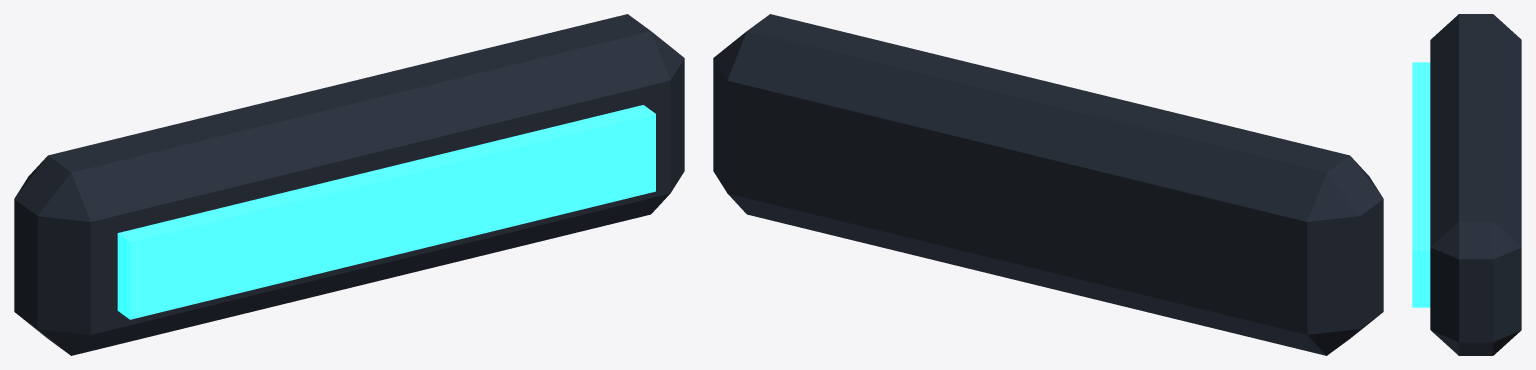
The model's file is SM_NPC_Accessory_001_Visor.glb.
3 views of the same model, side by side, from view 1: azimuth 30°, elevation 25°; view 2: azimuth 150°, elevation 25°; view 3: azimuth 270°, elevation 25° (orthographic). The views are drawn at different scales.
Parts seen in each view (by area): view 1: SM_NPC_Accessory_001_Visor; view 2: SM_NPC_Accessory_001_Visor; view 3: SM_NPC_Accessory_001_Visor.
Part boxes in pixels (bbox=[...]): SM_NPC_Accessory_001_Visor: bbox=[14, 14, 684, 355]; SM_NPC_Accessory_001_Visor: bbox=[713, 14, 1383, 355]; SM_NPC_Accessory_001_Visor: bbox=[1412, 14, 1521, 355].
Bounding box in the file's own units: 0.48 × 0.13 × 0.096.
